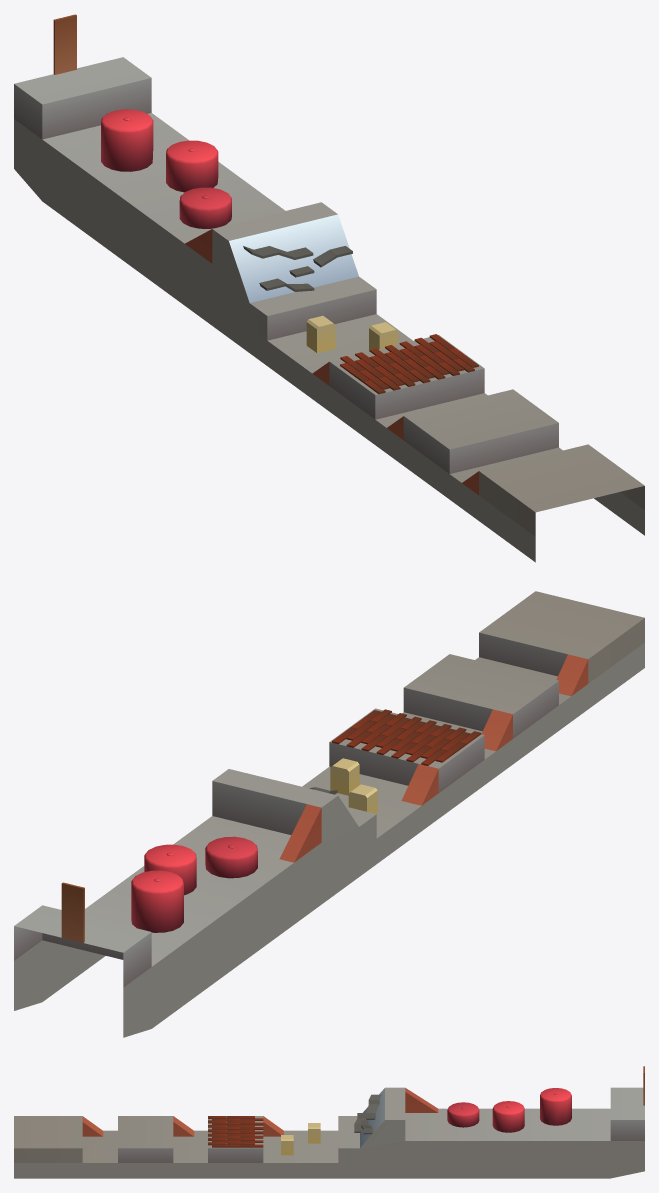
The model's file is tutorial.glb.
The picture shows the model from 3 angles, top to bottom: view 1: azimuth 30°, elevation 25°; view 2: azimuth 150°, elevation 25°; view 3: azimuth 270°, elevation 25°; orthographic projection. The views are drawn at different scales.
Parts seen in each view (by area): view 1: Circle, Cube.004, Circle.004, Circle.003, Circle.002, Circle.001, Plane.004; view 2: Circle, Cube.004, Circle.004, Circle.002, Circle.003, Cube.003, Circle.001, Cube.002, Cube, Cube.001, Plane.003, Plane.004; view 3: Circle, Cube.004, Circle.004, Circle.003, Circle.002, Cube.003, Cube, Cube.001, Cube.002, Plane.006, Plane.003, Plane.004.
Boxes of the visible parts, box(x1,y1,x2,y2) form: Circle: box(14, 57, 644, 562); Cube.004: box(340, 334, 478, 394); Circle.004: box(101, 109, 153, 171); Circle.003: box(166, 140, 218, 192); Circle.002: box(179, 187, 231, 228); Circle.001: box(53, 14, 76, 74); Plane.004: box(306, 315, 335, 353); Circle: box(14, 591, 644, 1037); Cube.004: box(332, 709, 481, 765); Circle.004: box(131, 870, 183, 932); Circle.002: box(205, 836, 257, 878); Circle.003: box(144, 844, 196, 895); Cube.003: box(279, 804, 321, 862); Circle.001: box(61, 882, 84, 942); Cube.002: box(401, 764, 438, 805); Cube: box(556, 654, 588, 696); Cube.001: box(481, 709, 512, 751); Plane.003: box(330, 758, 359, 795); Plane.004: box(348, 784, 377, 814); Circle: box(14, 1087, 644, 1178); Cube.004: box(208, 1116, 263, 1147); Circle.004: box(540, 1088, 571, 1125); Circle.003: box(492, 1101, 524, 1132); Circle.002: box(447, 1102, 479, 1127); Cube.003: box(405, 1088, 438, 1112); Cube: box(82, 1116, 103, 1136); Cube.001: box(173, 1116, 194, 1136); Cube.002: box(263, 1116, 283, 1136); Plane.006: box(366, 1094, 381, 1119); Plane.003: box(281, 1135, 293, 1155); Plane.004: box(308, 1123, 320, 1143).
Size of what is drawn, in the model's own units: 4 by 5.29 by 33.05.
1 material, 1 textured.
